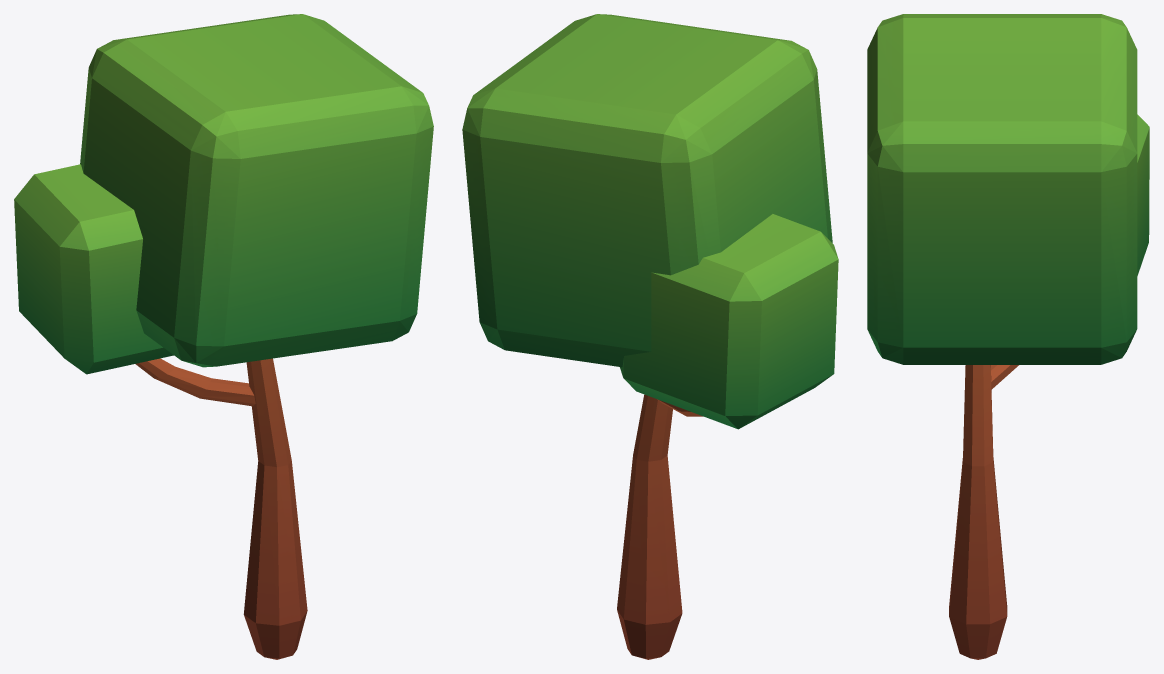
The model's file is kf_tree_2_a.fbx.
3 renders of one model, left to right at view 1: azimuth 30°, elevation 25°; view 2: azimuth 150°, elevation 25°; view 3: azimuth 270°, elevation 25°, orthographic. The views are drawn at different scales.
Visible parts, largest first — view 1: kf_tree_2_a_LOD0; view 2: kf_tree_2_a_LOD0; view 3: kf_tree_2_a_LOD0.
Boxes of the visible parts, bbox=[...] form: kf_tree_2_a_LOD0: bbox=[14, 14, 433, 659]; kf_tree_2_a_LOD0: bbox=[462, 14, 838, 659]; kf_tree_2_a_LOD0: bbox=[867, 14, 1149, 659].
Size of what is drawn, in the model's own units: 2.99 by 5.38 by 2.3.
